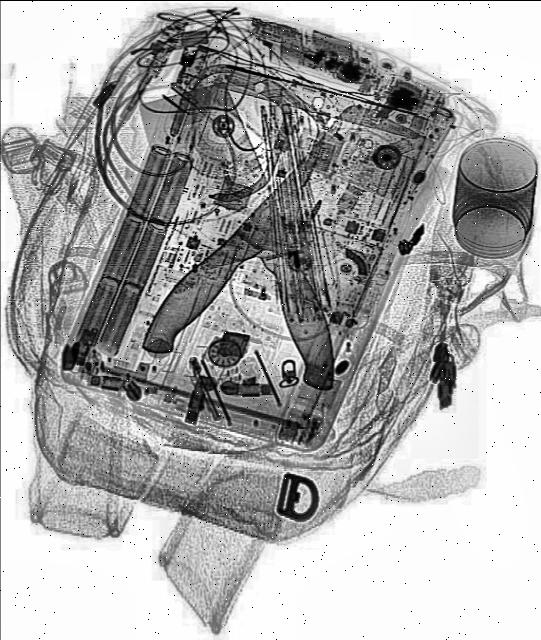Knife: (131, 72, 439, 410), (132, 65, 344, 422)
